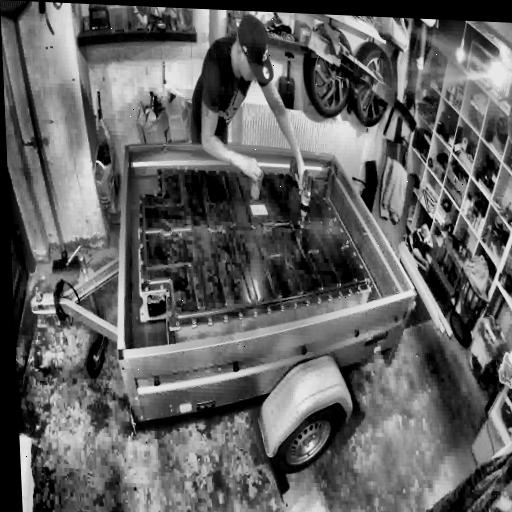b_casing: (138, 168, 375, 328)
